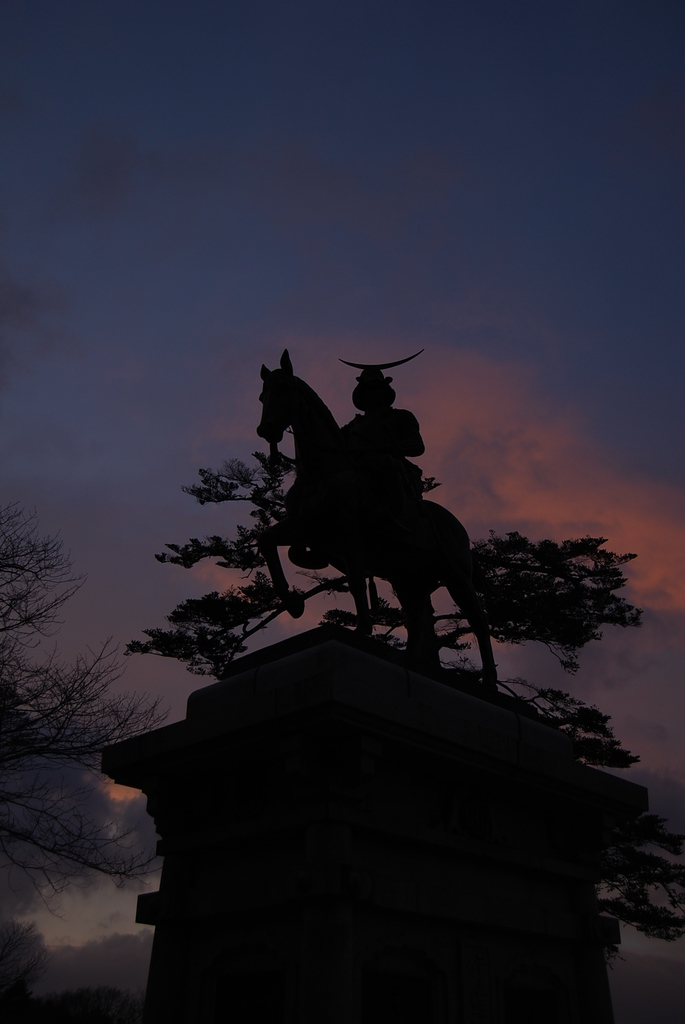Tree: (140, 376, 623, 739)
